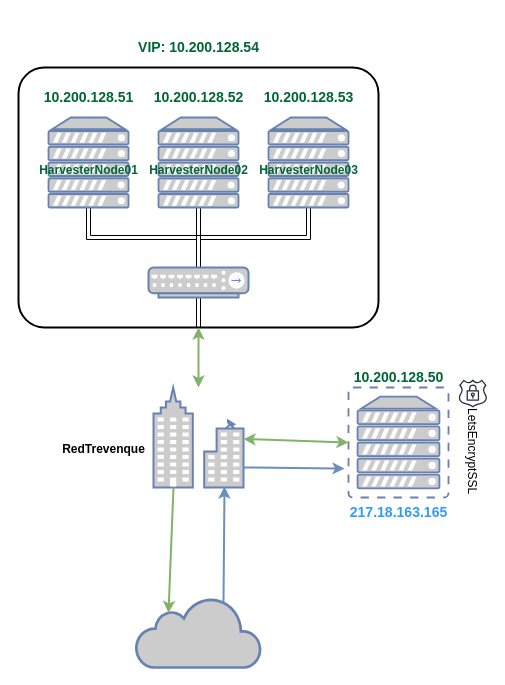
This 505x685 diagram has some shape labels left out. Each missing label, with the box of its shape:
Internet: (134, 596, 262, 668)
Rancher: (347, 386, 449, 498)
